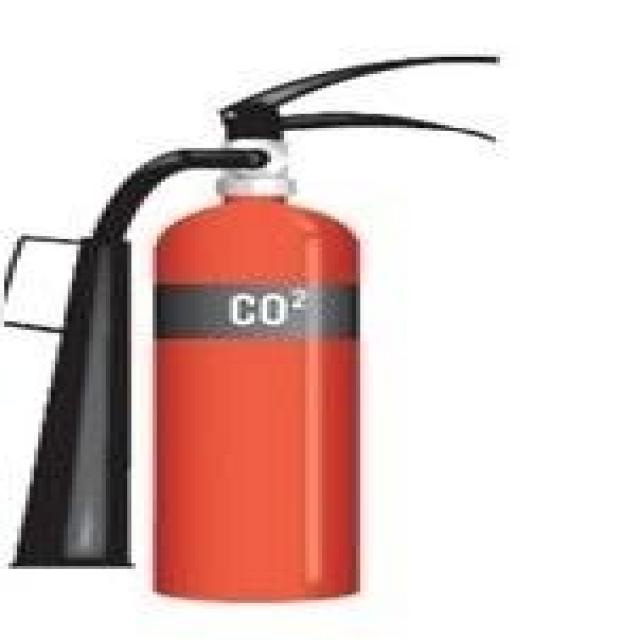fire_extinguisher: (0, 43, 496, 603)
